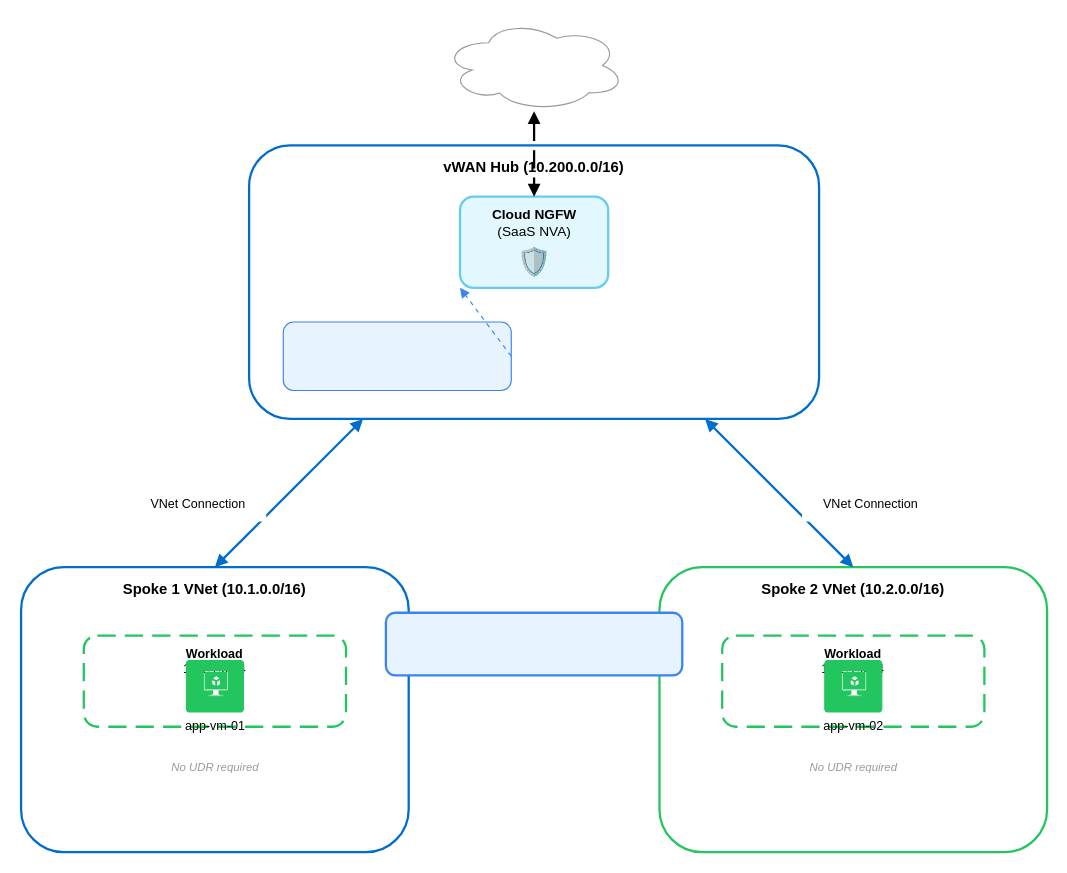
Some shapes in this 1067 by 873 pixel diagram are drawn without their labels. The centre of each missing label's shape, as x and y in pixels:
Internet: the point at 533,65
Routing Intent Azure automatically programs routes — no UDRs required: the point at 533,643
Routing Intent Internet Traffic → Cloud NGFW Private Traffic → Cloud NGFW: the point at 396,355
